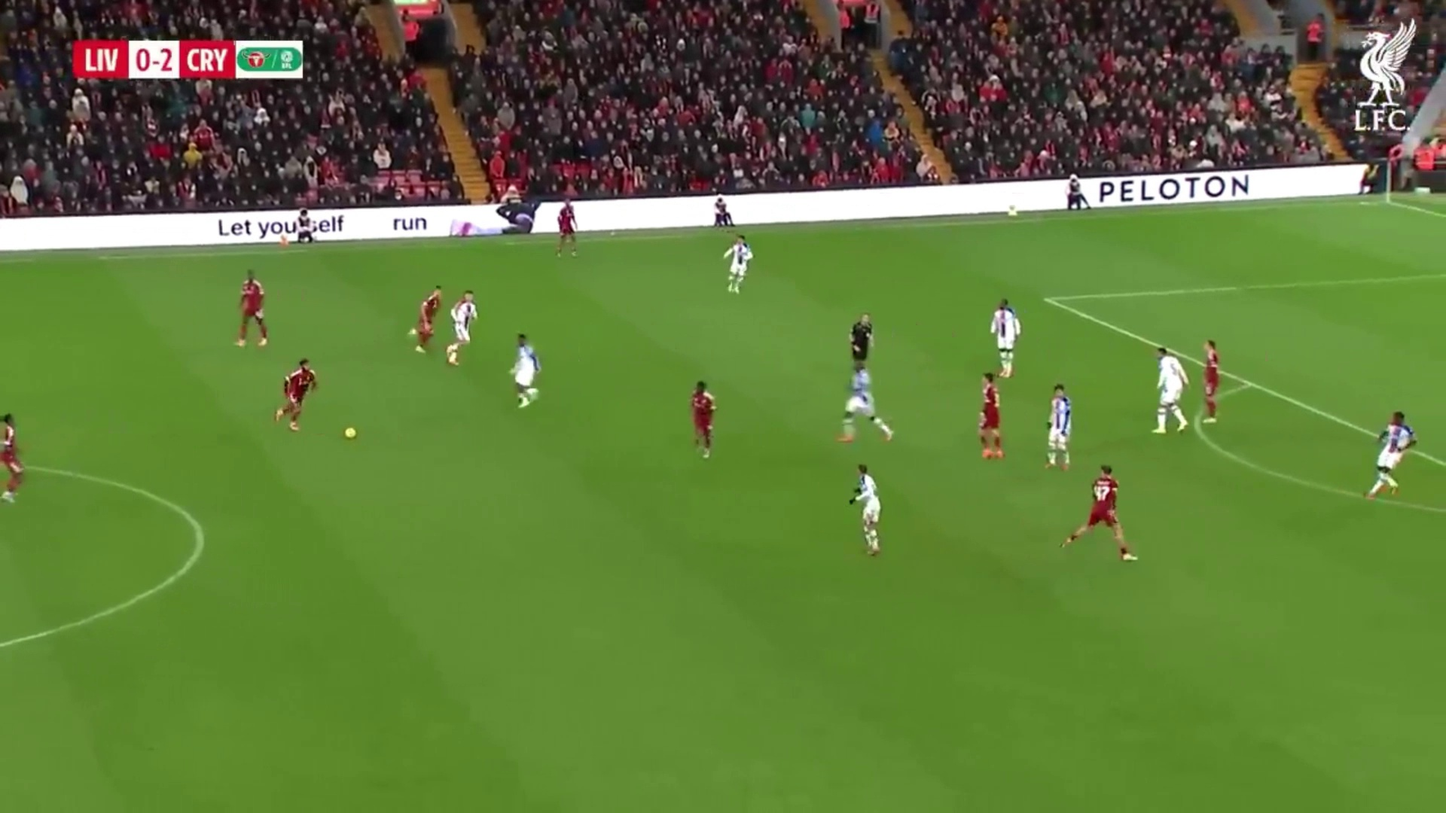player: (1062, 463, 1139, 561), (1364, 410, 1415, 500), (838, 362, 894, 443), (275, 359, 319, 433), (1153, 344, 1188, 436), (852, 464, 882, 558), (235, 273, 269, 349), (990, 297, 1020, 380), (510, 333, 541, 411), (977, 375, 1005, 461), (445, 292, 476, 366), (843, 358, 881, 417), (1048, 383, 1073, 469), (0, 415, 25, 501), (690, 382, 717, 459), (411, 288, 444, 351), (1201, 339, 1223, 420), (726, 237, 751, 296), (557, 198, 579, 256), (850, 314, 874, 367), (1066, 175, 1088, 211), (712, 197, 733, 227)
